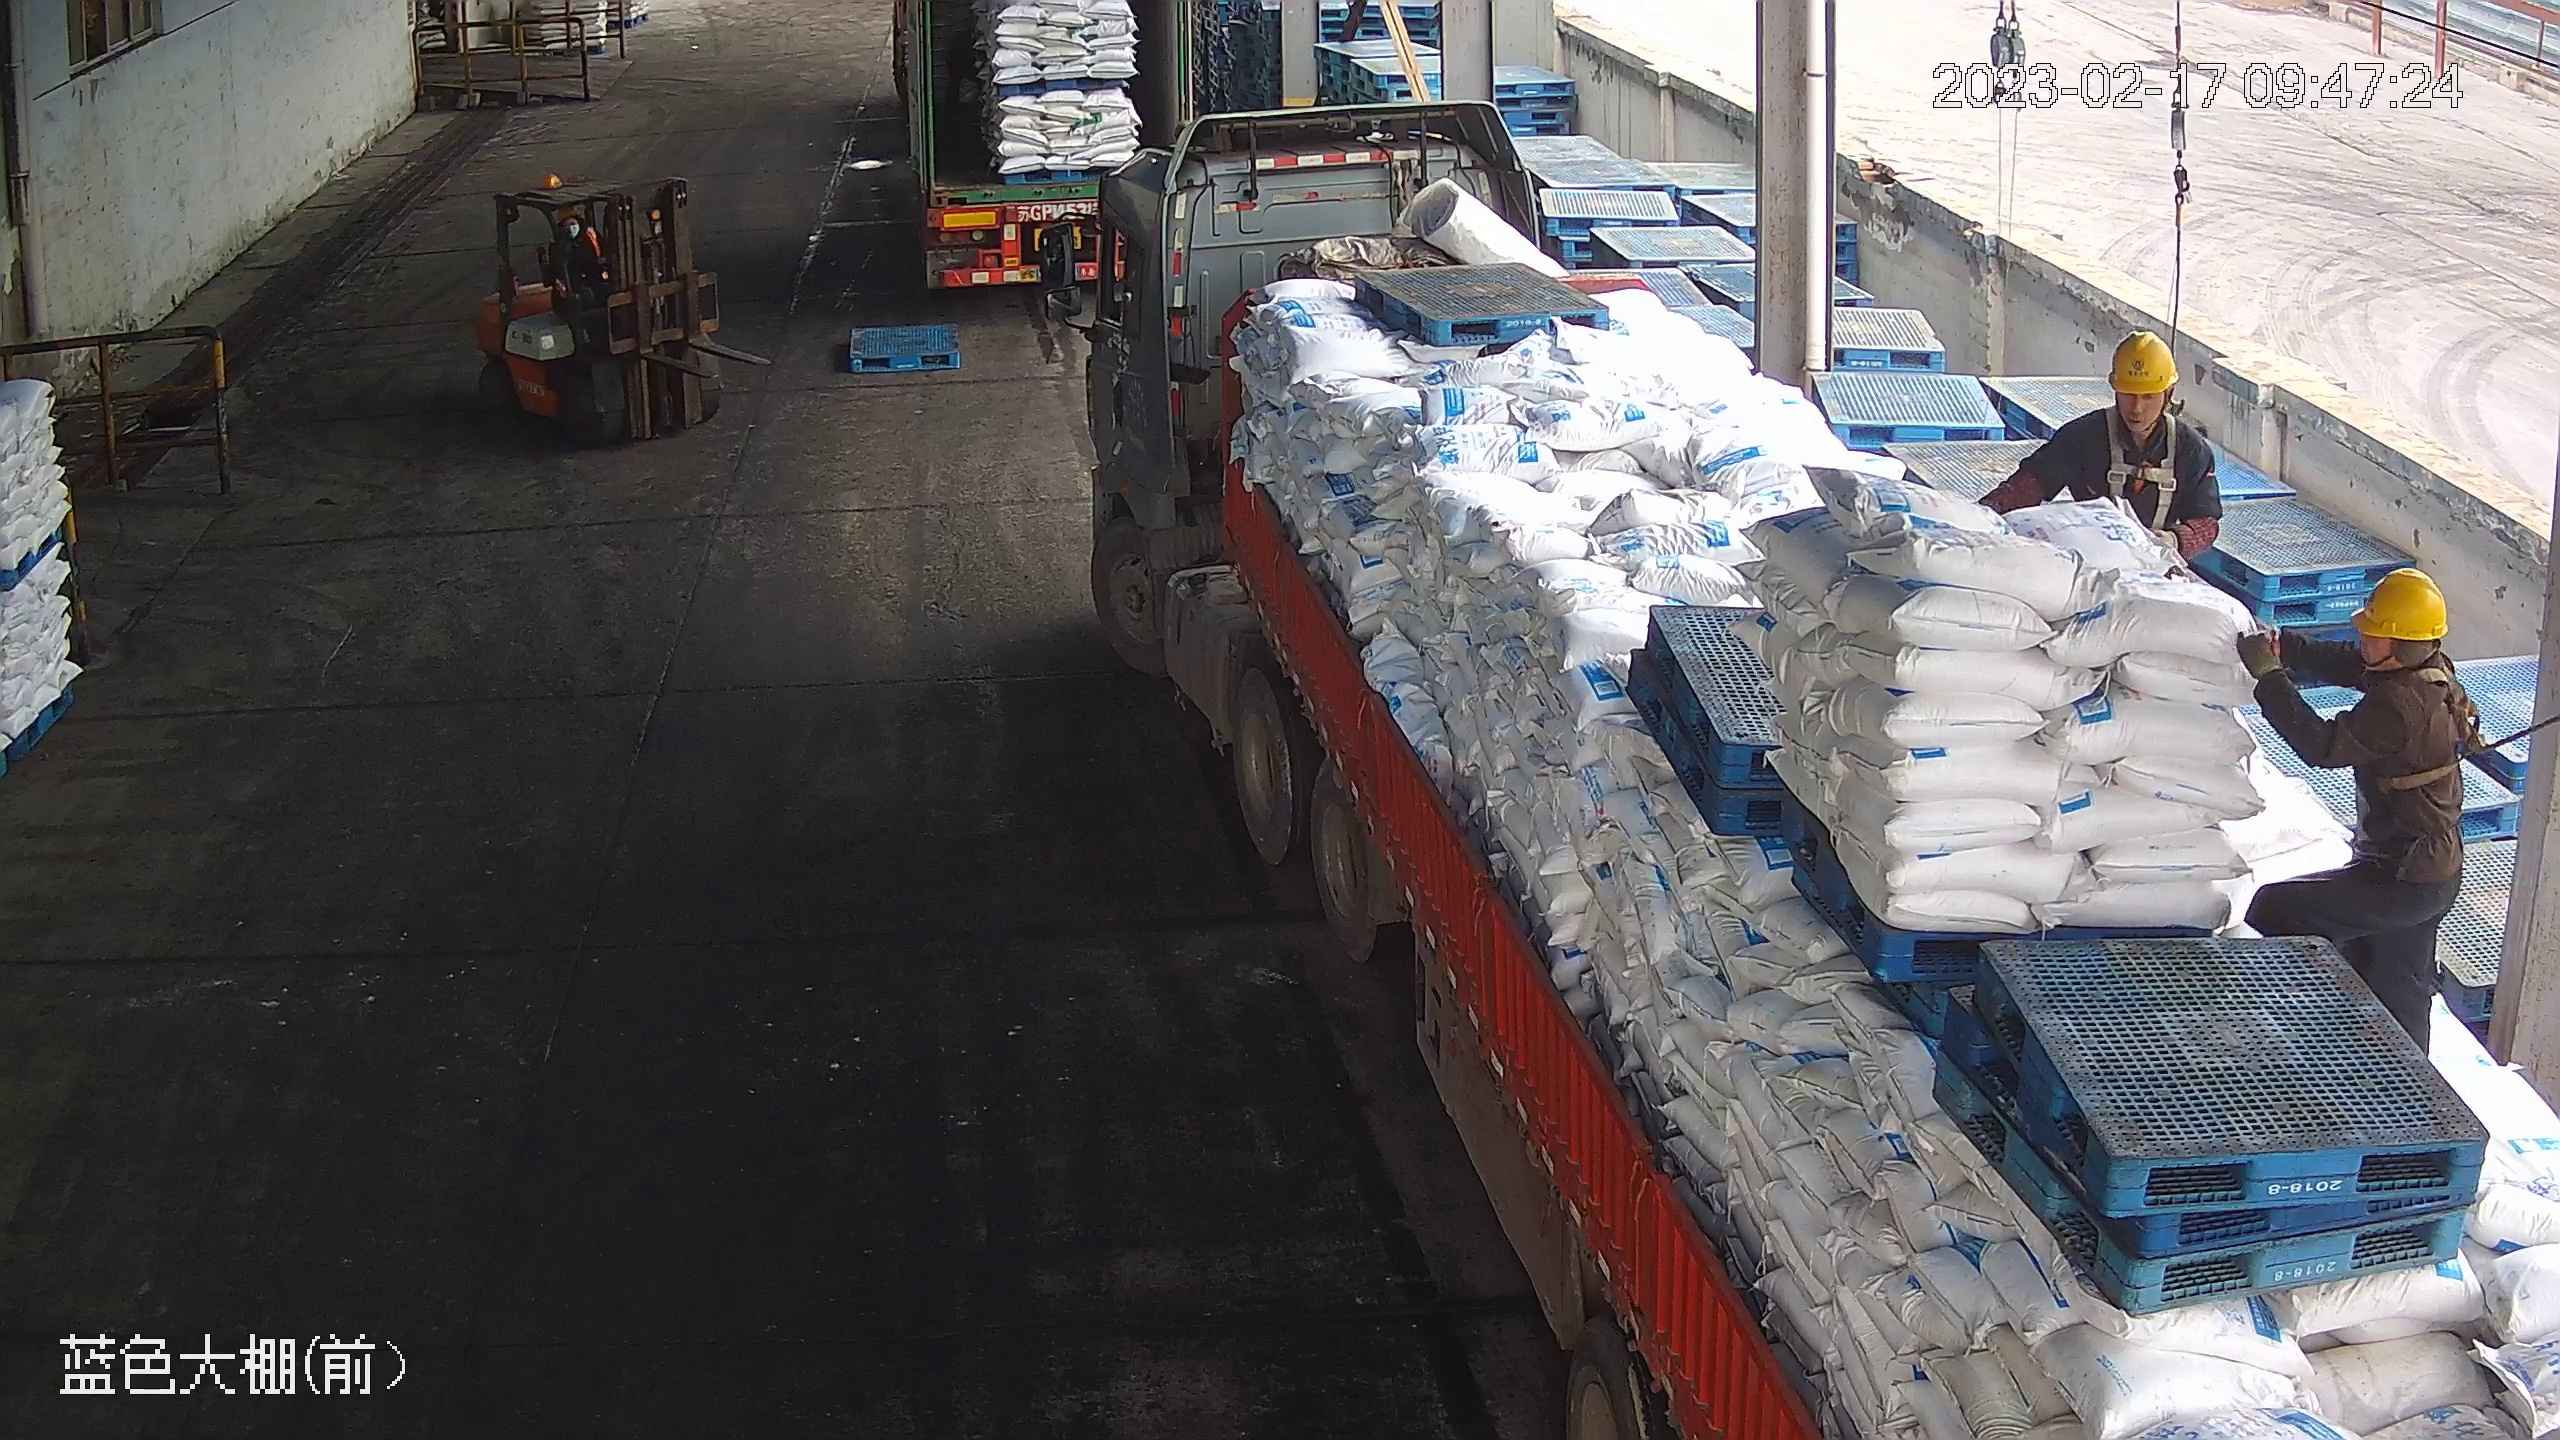belt: (2368, 657, 2486, 790), (2097, 405, 2182, 510)
head: (2043, 328, 2218, 482), (2334, 565, 2471, 738)
helmet: (2344, 561, 2449, 641), (2105, 327, 2182, 395)
people: (2232, 567, 2470, 1099)
truck: (1073, 95, 2551, 1437), (887, 1, 1213, 287)
